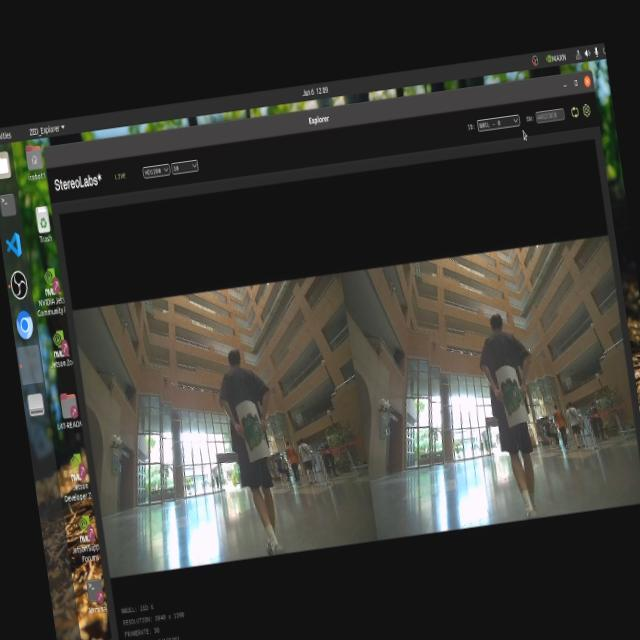green: (238, 403, 279, 458), (494, 372, 532, 423)
